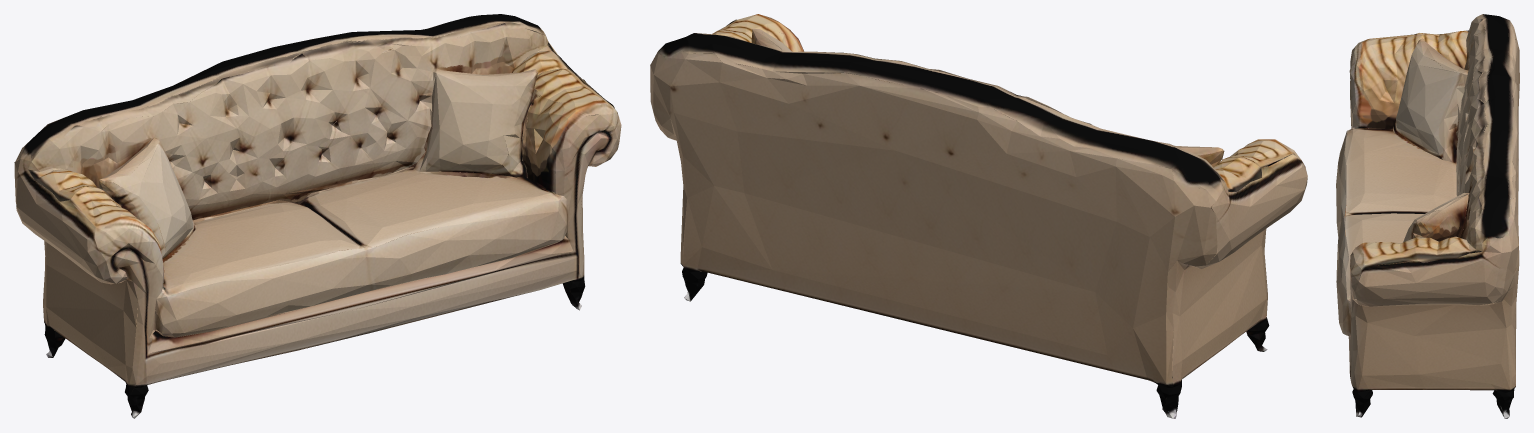
Rendered from sofa-hy3d.glb.
The picture shows the model from 3 angles, left to right: view 1: azimuth 30°, elevation 25°; view 2: azimuth 150°, elevation 25°; view 3: azimuth 270°, elevation 25°; orthographic projection. The views are drawn at different scales.
Visible parts, largest first — view 1: temp_mesh.ply; view 2: temp_mesh.ply; view 3: temp_mesh.ply.
Boxes of the visible parts, <box> form: temp_mesh.ply: <box>14,14,621,418</box>; temp_mesh.ply: <box>650,14,1307,418</box>; temp_mesh.ply: <box>1336,14,1519,418</box>.
Size of the model in its own units: 1.99 by 0.9183 by 0.6715.
1 material, 1 textured.
